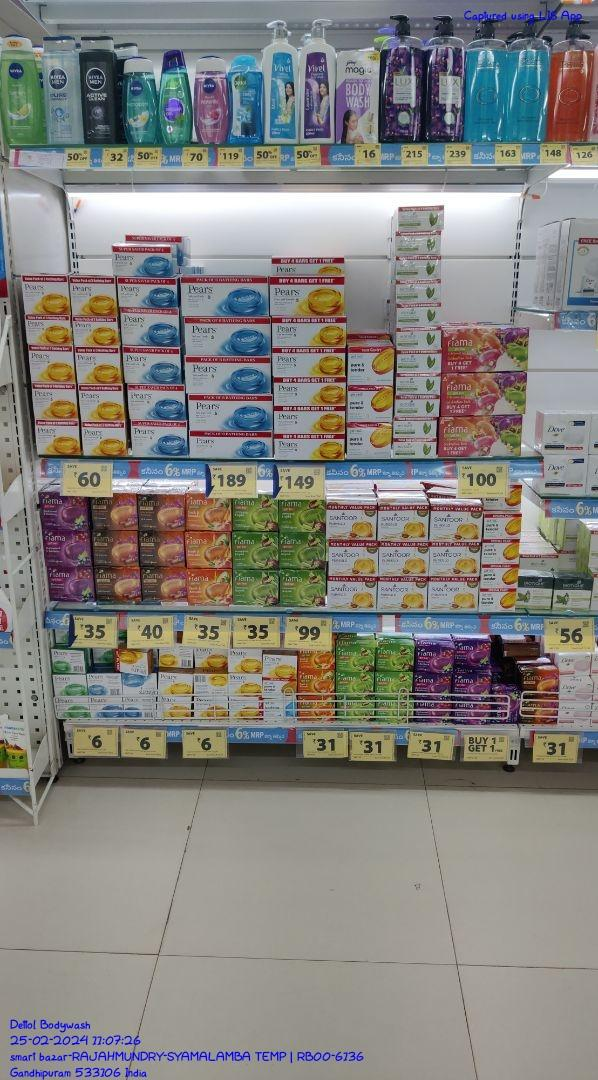Dettol_Bodywash_Cool: (230, 58, 264, 144)
Joy_Shower_Gel_Mint_and_Eucalyptus_250ML: (160, 48, 192, 145)
Nivea_Shower_Gel_Frangipani_and_Oil_250ML: (124, 59, 157, 146)
Nivea_Shower_Gel_Waterlily_and_Oil_250ML: (195, 57, 227, 143)
